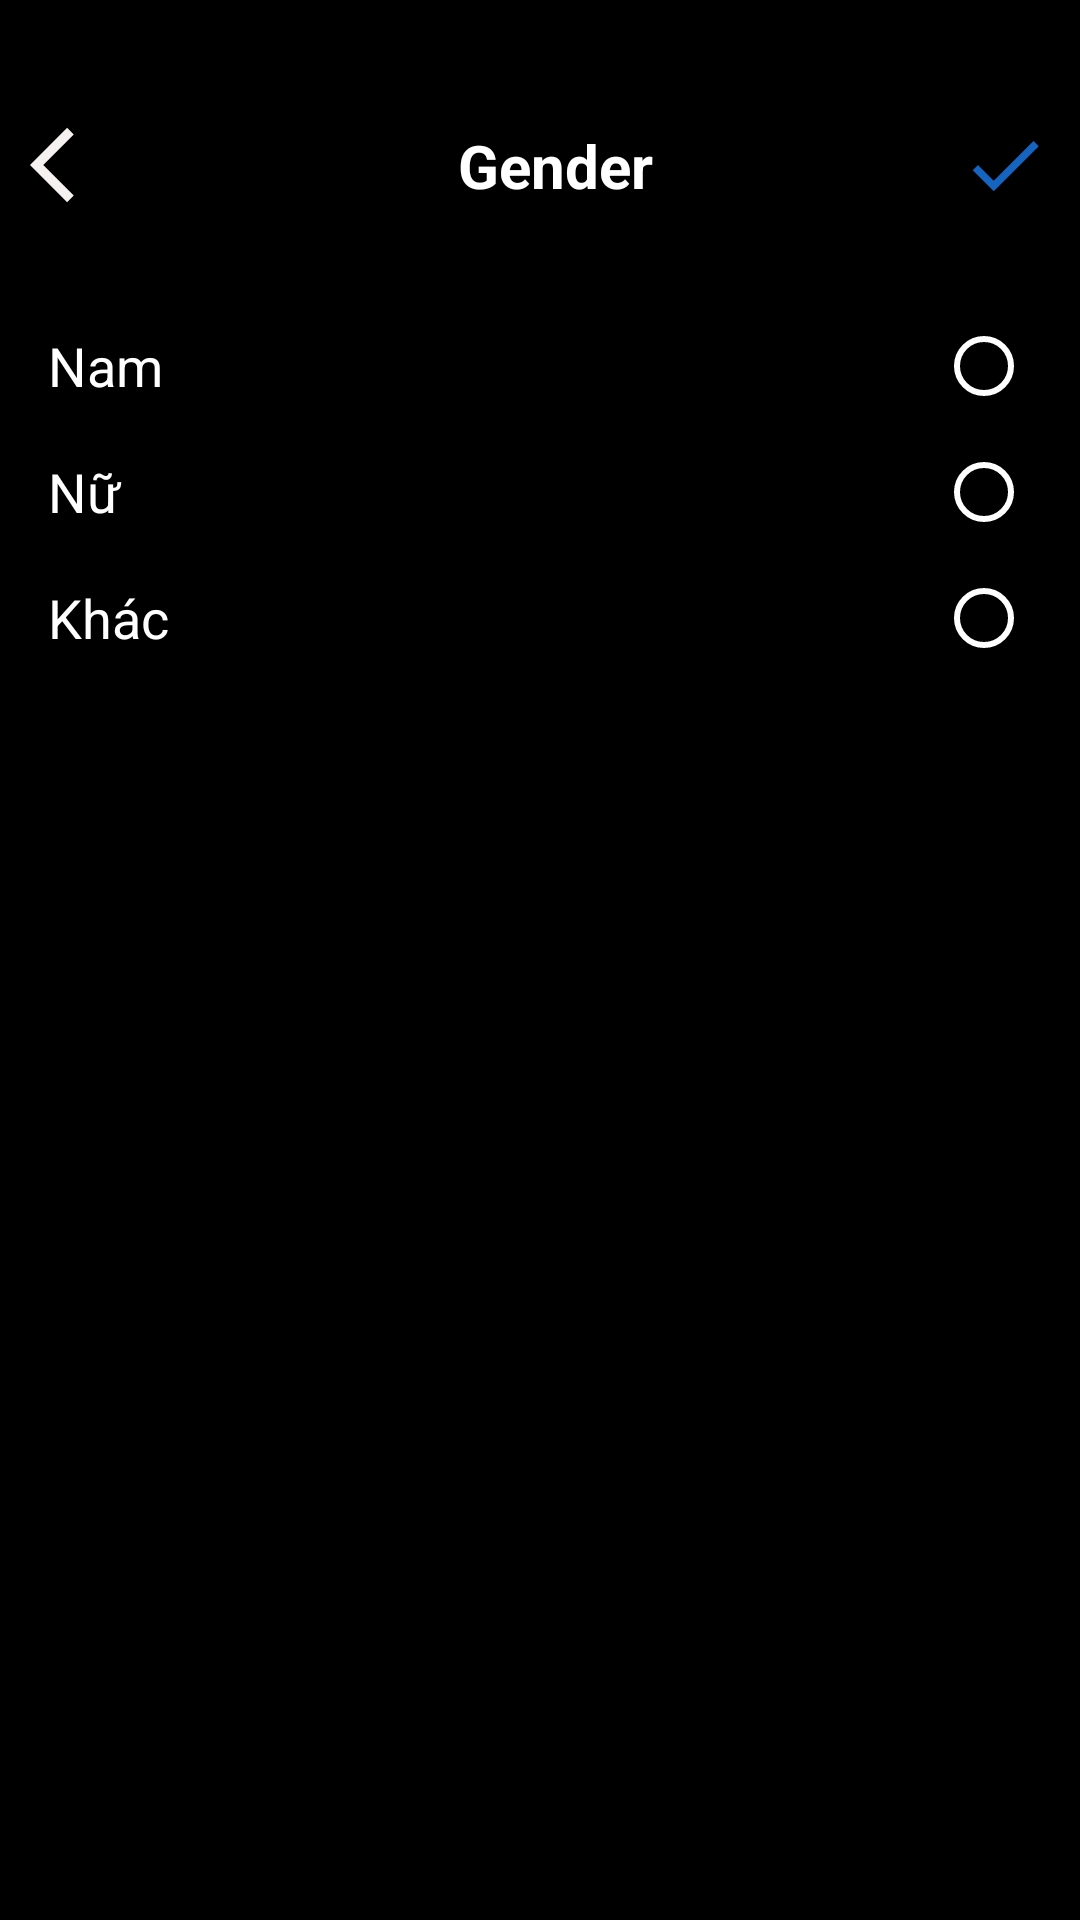

Screen size 1080 × 1920. Icon name, then its center in pixels as (x=x, y=y):
back: (x=52, y=165)
done: (x=1006, y=166)
